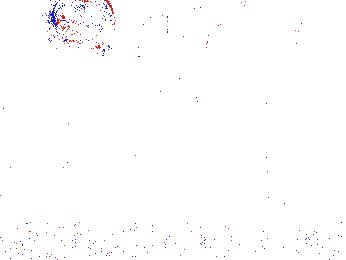moon jellyfish: (193, 55, 286, 133), (137, 7, 226, 63), (189, 1, 261, 55), (156, 38, 216, 99), (52, 1, 118, 56), (228, 5, 303, 34)
